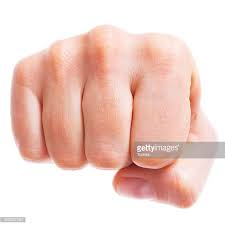fist: (22, 35, 207, 191)
